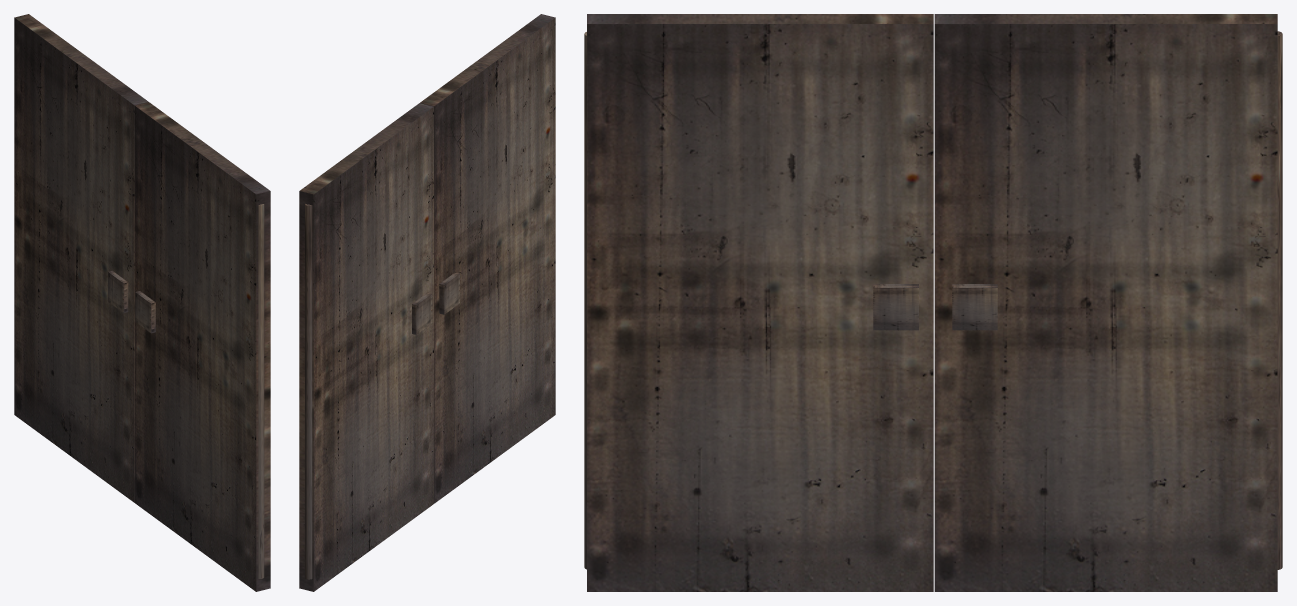
Rendered from door_double_rusty.dae.
3 views of the same model, side by side, from view 1: azimuth 30°, elevation 25°; view 2: azimuth 150°, elevation 25°; view 3: azimuth 270°, elevation 25° (orthographic). The views are drawn at different scales.
Visible parts, largest first — view 1: door01, door02, _joint_hinge_door01_null_95_0_nocollide_joint1; view 2: door02, door01, _joint_hinge_door02_null_0_95_nocollide_joint2; view 3: door01, door02, _joint_hinge_door02_null_0_95_nocollide_joint2, _joint_hinge_door01_null_95_0_nocollide_joint1.
Boxes of the visible parts, left/top/right/bottom form: door01: left=135, top=102, right=270, bottom=591; door02: left=14, top=14, right=148, bottom=502; _joint_hinge_door01_null_95_0_nocollide_joint1: left=258, top=204, right=264, bottom=578; door02: left=299, top=103, right=433, bottom=591; door01: left=420, top=14, right=555, bottom=503; _joint_hinge_door02_null_0_95_nocollide_joint2: left=305, top=203, right=312, bottom=579; door01: left=587, top=14, right=933, bottom=591; door02: left=934, top=14, right=1277, bottom=591; _joint_hinge_door02_null_0_95_nocollide_joint2: left=1277, top=31, right=1282, bottom=569; _joint_hinge_door01_null_95_0_nocollide_joint1: left=584, top=32, right=586, bottom=569.
Size of what is drawn, in the model's own units: 0.1334 by 1.96 by 2.18.
